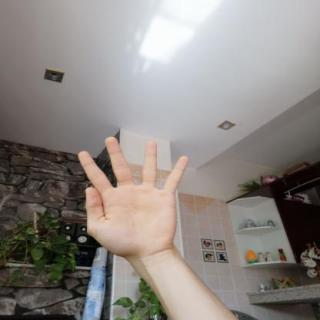SHEEN: (68, 130, 199, 263)
